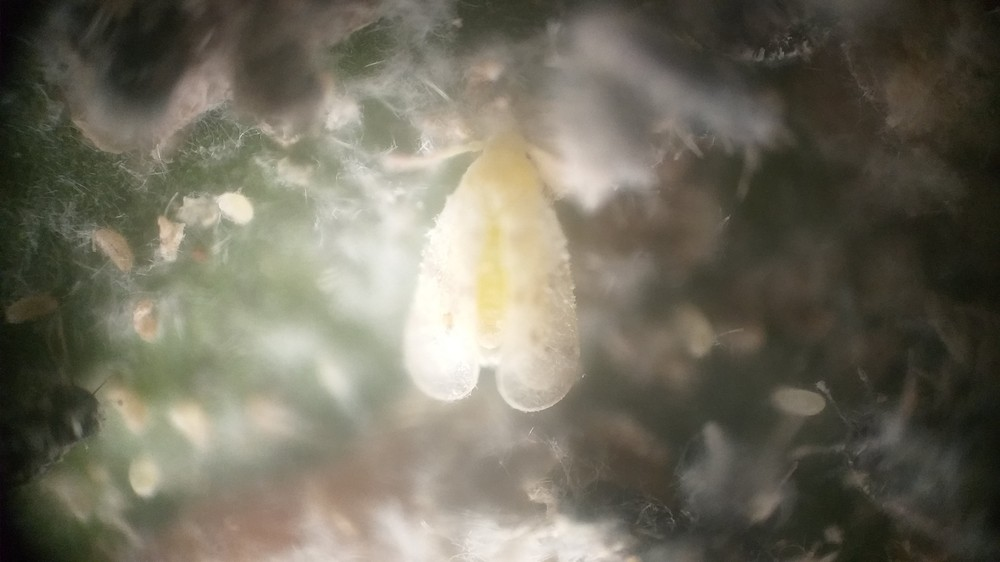Mosca Blanca: (370, 119, 639, 432)
